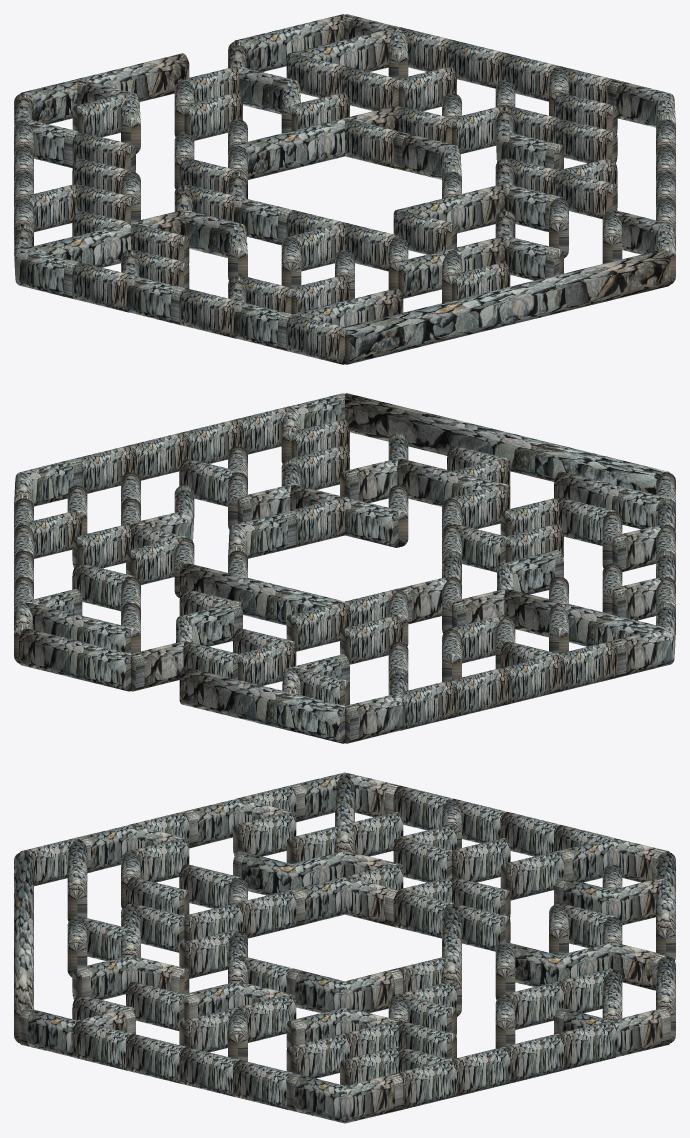
The model's file is lvl3_maze.fbx.
3 views of the same model, one above another, from view 1: azimuth 30°, elevation 25°; view 2: azimuth 150°, elevation 25°; view 3: azimuth 270°, elevation 25° (orthographic).
Visible parts, largest first — view 1: Curve; view 2: Curve; view 3: Curve.
Part boxes in pixels (x1,y1,x2,y2): Curve: [14, 14, 675, 364]; Curve: [14, 393, 675, 743]; Curve: [14, 772, 675, 1123].
Bounding box in the file's own units: 1913 × 100 × 1663.
